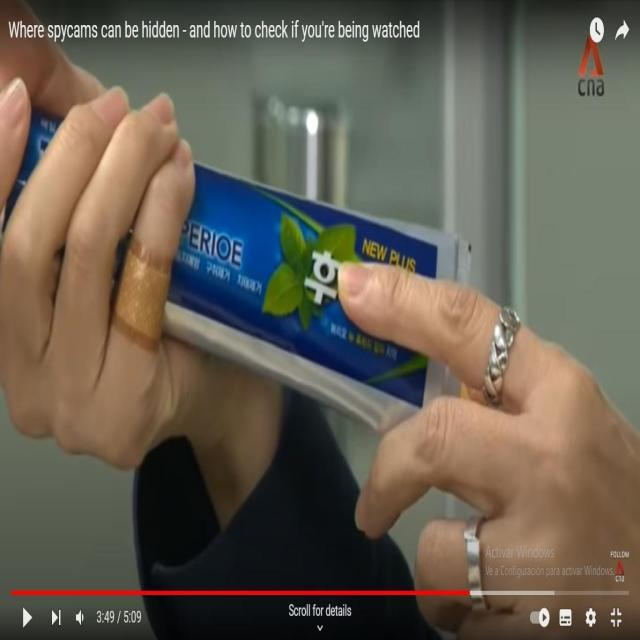hidden camera: (313, 248, 335, 290)
